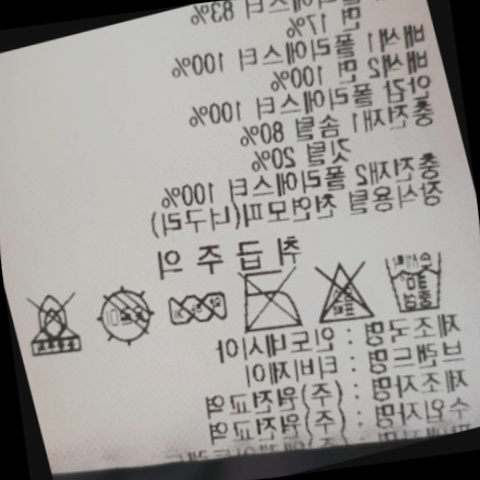DN_iron: (225, 256, 317, 347)
hand_wash: (368, 236, 458, 329)
line_dry_in_shade: (81, 274, 164, 359)
non_chlorine_bleach: (294, 239, 387, 338)
wring: (154, 275, 236, 340)
